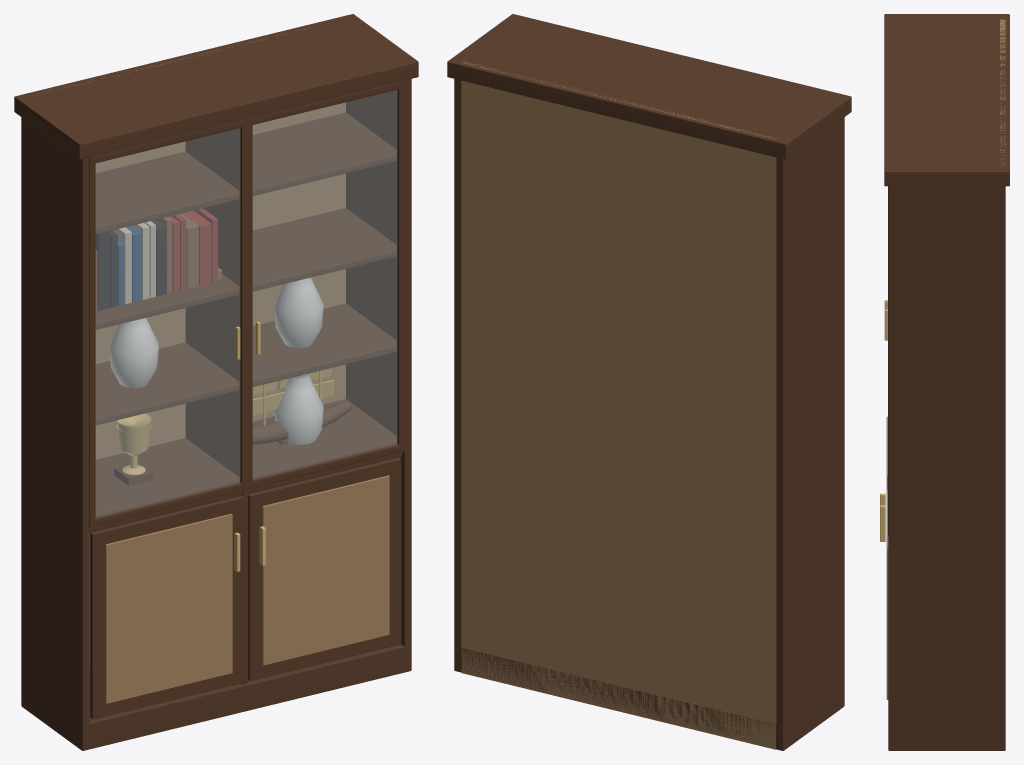
The model's file is bgd_tu_sach_a.glb.
3 views of the same model, side by side, from view 1: azimuth 30°, elevation 25°; view 2: azimuth 150°, elevation 25°; view 3: azimuth 270°, elevation 25° (orthographic). The views are drawn at different scales.
Parts seen in each view (by area): view 1: bgd_tu_sach_a; view 2: bgd_tu_sach_a; view 3: bgd_tu_sach_a.
Part boxes in pixels (x1,y1,x2,y2): bgd_tu_sach_a: (14, 14, 418, 750); bgd_tu_sach_a: (447, 14, 851, 750); bgd_tu_sach_a: (880, 14, 1009, 750).
Bounding box in the file's own units: 1.34 × 2.3 × 0.465.
